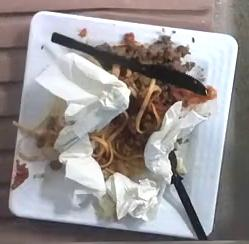asian_noodles: (89, 69, 216, 181)
beef: (96, 32, 190, 72)
